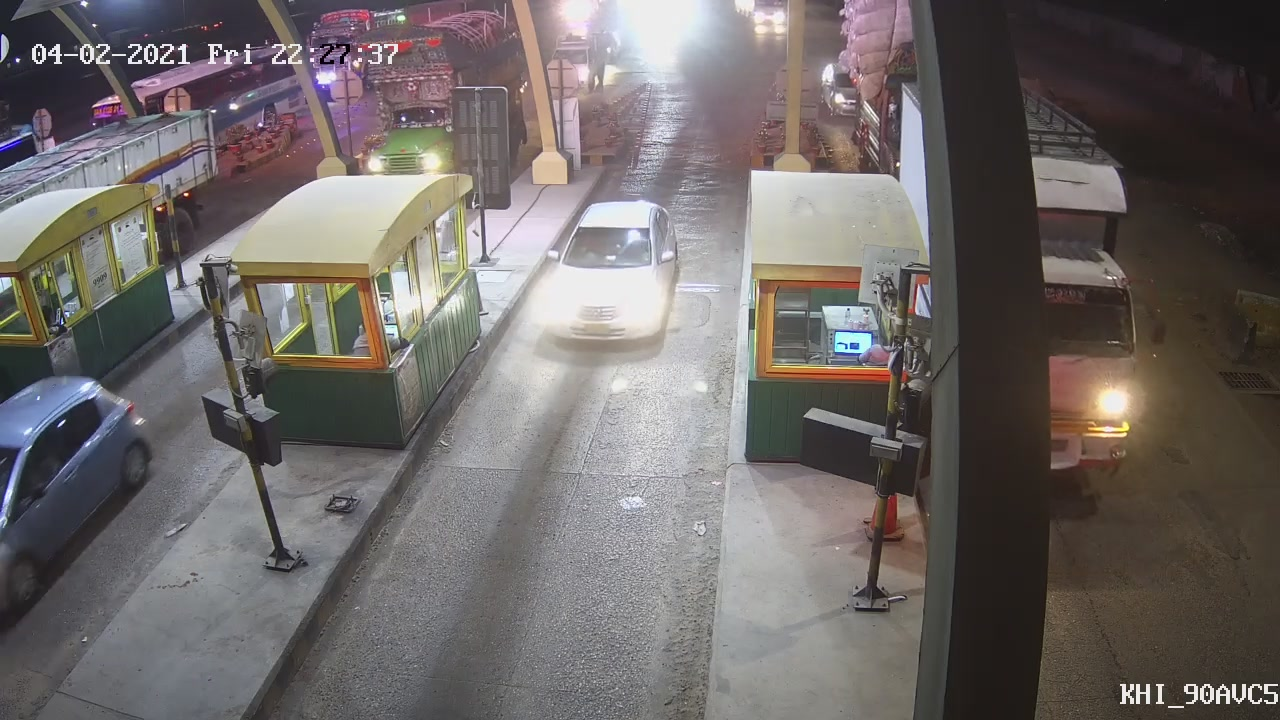F1: (540, 194, 684, 348)
